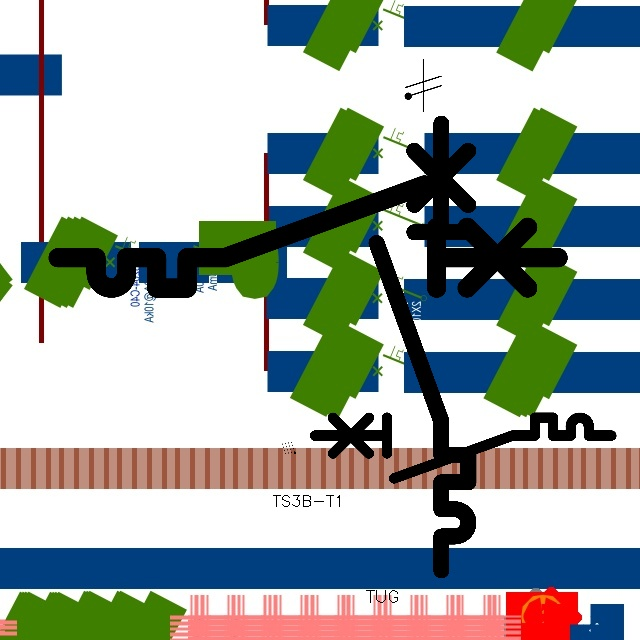interruptor_termomagnetico: (45, 172, 571, 301), (365, 112, 480, 582), (307, 410, 618, 486)
